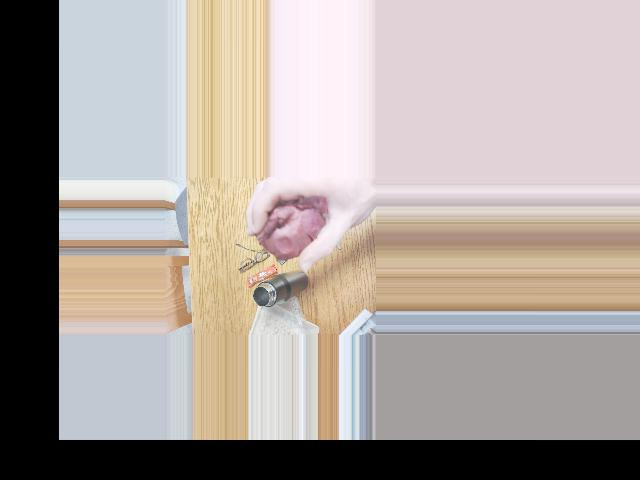onion: (267, 199, 317, 247)
